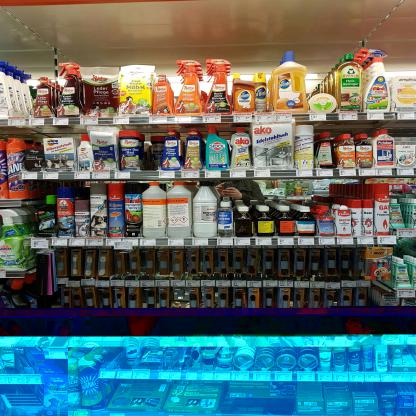Void: (265, 180, 328, 198), (338, 181, 369, 197), (143, 134, 155, 168), (394, 126, 414, 144), (75, 182, 87, 196), (34, 184, 53, 191), (125, 182, 137, 192)
